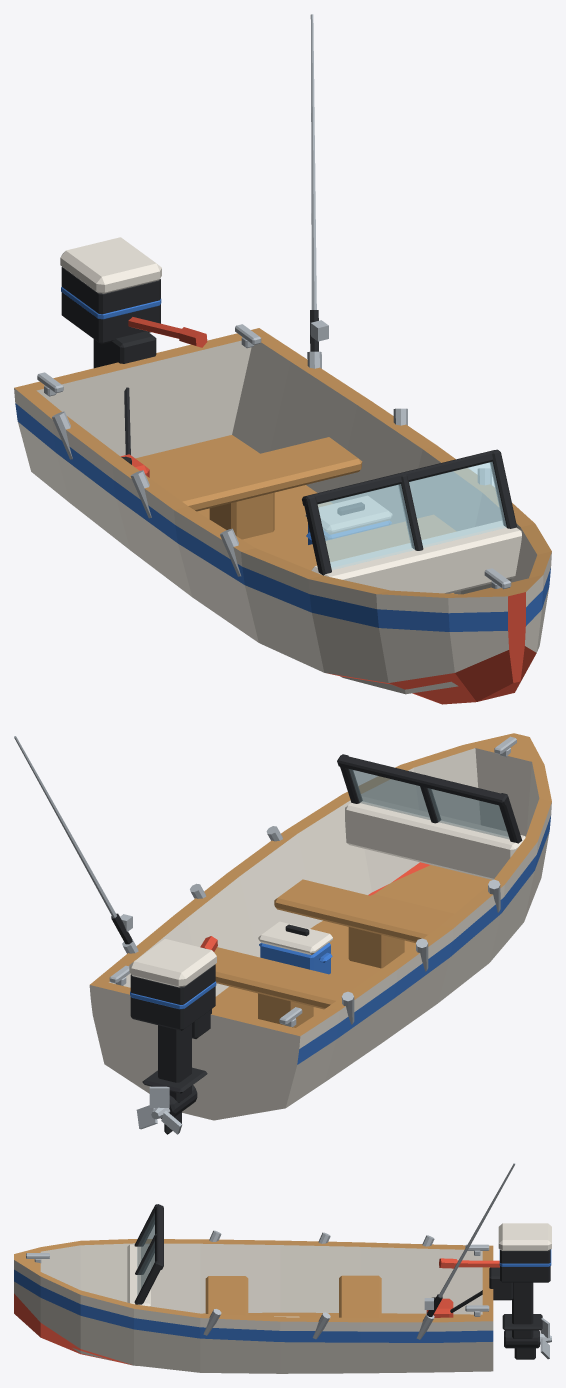
The model's file is fishing-motorboat.glb.
3 renders of one model, top to bottom at view 1: azimuth 30°, elevation 25°; view 2: azimuth 150°, elevation 25°; view 3: azimuth 270°, elevation 25°, orthographic. The views are drawn at different scales.
Parts seen in each view (by area): view 1: Hull, Windshield_Glass, Seat_Rear, Dash, Motor, Windshield_Frame, Motor_Cover, Seat_Front, RodHolders, FishingRod, CoolerLid, Cleats (+1 smaller); view 2: Hull, Dash, Seat_Front, Motor, Seat_Rear, Windshield_Glass, Windshield_Frame, Motor_Cover, RodHolders, CoolerLid, Cooler, Propeller (+2 smaller); view 3: Hull, Motor, Seat_Rear, Seat_Front, Windshield_Frame, Motor_Cover, Dash, RodHolders, Windshield_Glass, FishingRod, Cleats, Motor_Tiller (+2 smaller).
Part boxes in pixels (x1,y1,x2,y2): Hull: [14, 328, 551, 704]; Windshield_Glass: [317, 462, 506, 569]; Seat_Rear: [153, 437, 362, 539]; Dash: [311, 521, 521, 593]; Motor: [61, 267, 160, 368]; Windshield_Frame: [302, 449, 517, 575]; Motor_Cover: [60, 237, 161, 293]; Seat_Front: [271, 515, 455, 570]; RodHolders: [52, 351, 491, 576]; FishingRod: [310, 14, 328, 341]; CoolerLid: [305, 496, 392, 534]; Cleats: [37, 324, 511, 589]; Hull: [89, 733, 551, 1120]; Dash: [345, 796, 525, 879]; Seat_Front: [274, 879, 451, 968]; Motor: [130, 964, 215, 1134]; Seat_Rear: [214, 947, 361, 1027]; Windshield_Glass: [349, 769, 509, 839]; Windshield_Frame: [337, 754, 522, 843]; Motor_Cover: [129, 939, 216, 987]; RodHolders: [122, 826, 500, 1024]; CoolerLid: [258, 921, 332, 955]; Cooler: [259, 942, 332, 974]; Propeller: [136, 1086, 182, 1134]; Hull: [14, 1239, 493, 1373]; Motor: [489, 1250, 550, 1359]; Seat_Rear: [339, 1275, 381, 1317]; Seat_Front: [205, 1276, 248, 1315]; Windshield_Frame: [134, 1204, 163, 1304]; Motor_Cover: [498, 1223, 551, 1250]; Dash: [127, 1244, 150, 1306]; RodHolders: [203, 1230, 434, 1339]; Windshield_Glass: [137, 1213, 154, 1295]; FishingRod: [424, 1163, 515, 1309]; Cleats: [26, 1244, 489, 1316]; Motor_Tiller: [439, 1258, 499, 1268].
Bounding box in the file's own units: 9.05 × 10.63 × 20.2.
